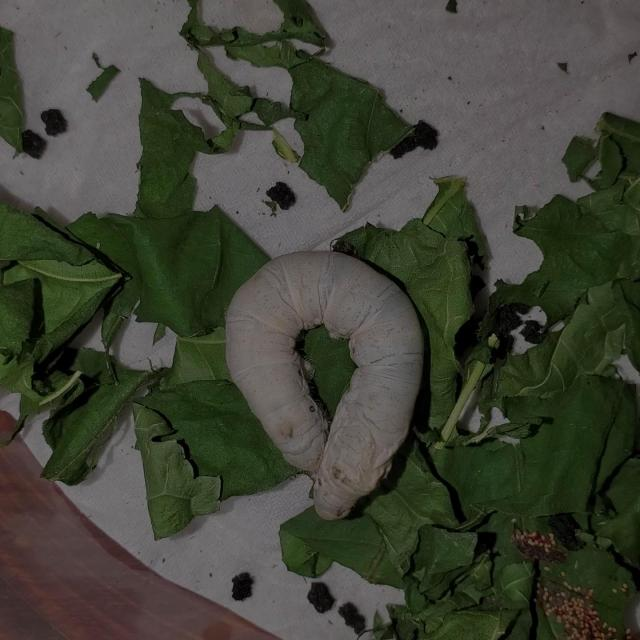Healthy: (192, 220, 459, 534)
